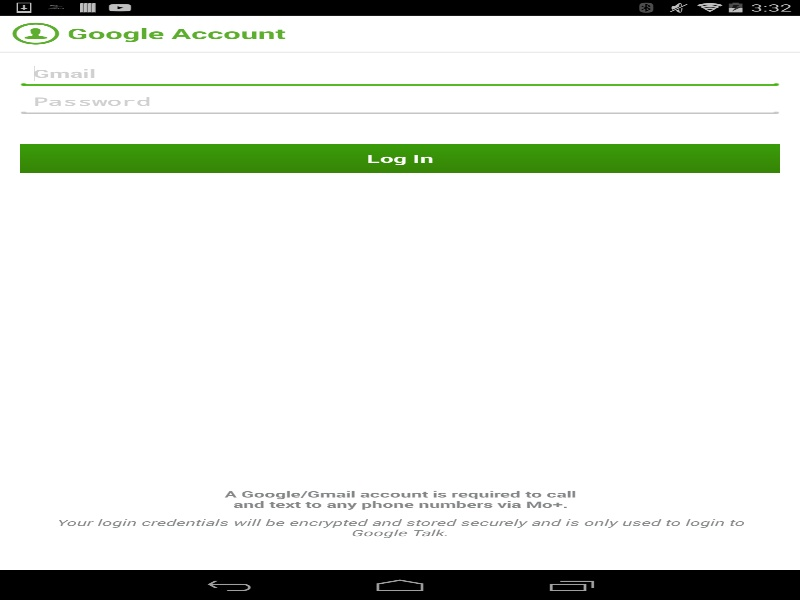Button: (20, 143, 780, 173)
Input: (20, 65, 780, 82), (20, 93, 780, 110)
